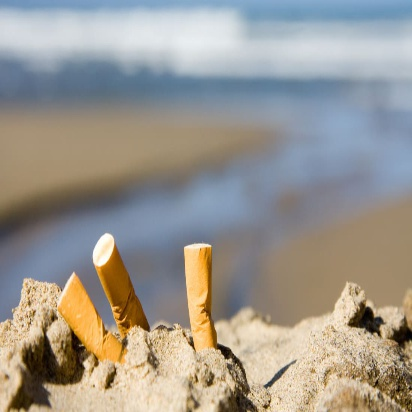cigarette: (87, 224, 161, 339), (52, 266, 129, 369), (172, 241, 225, 368)
